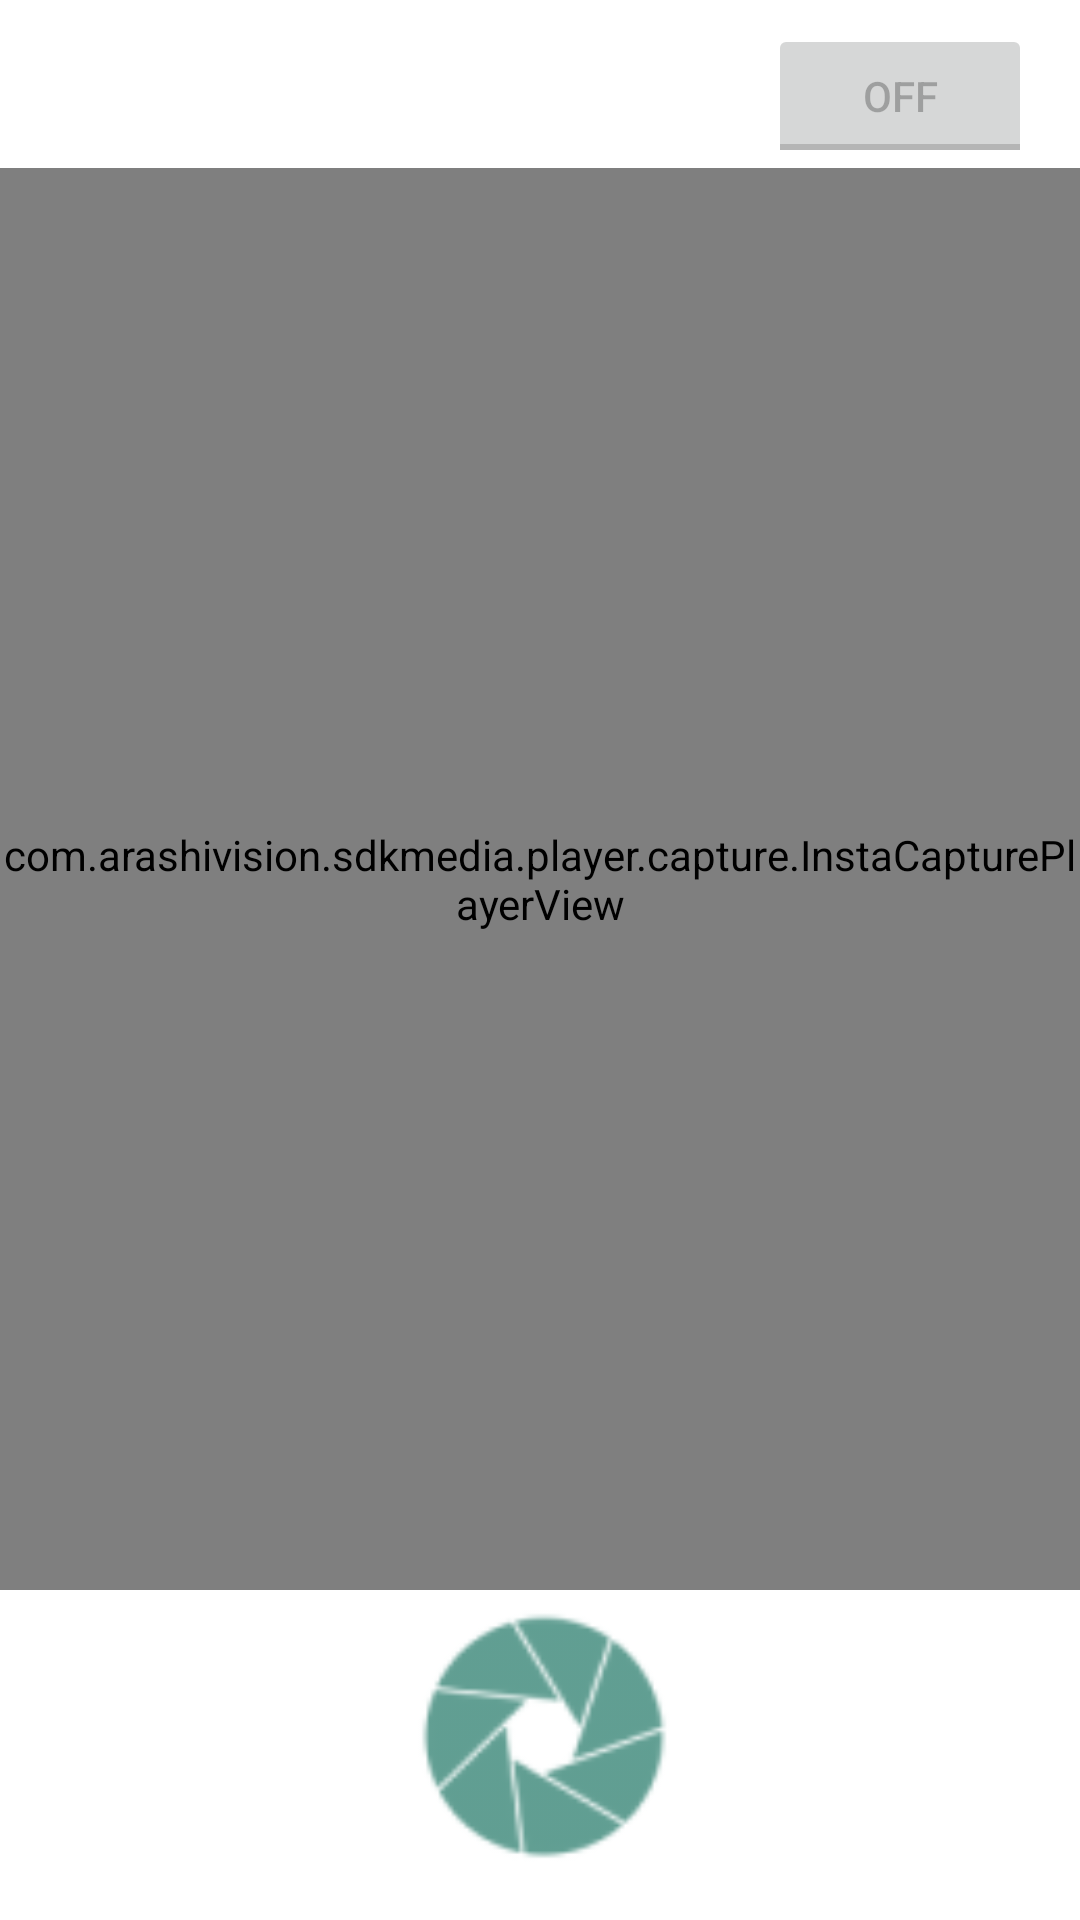

Icons on this 1080×1920 Android screen, each with its box as (x1, y1, x2, y2):
camera shutter: (423, 1615, 665, 1857)
